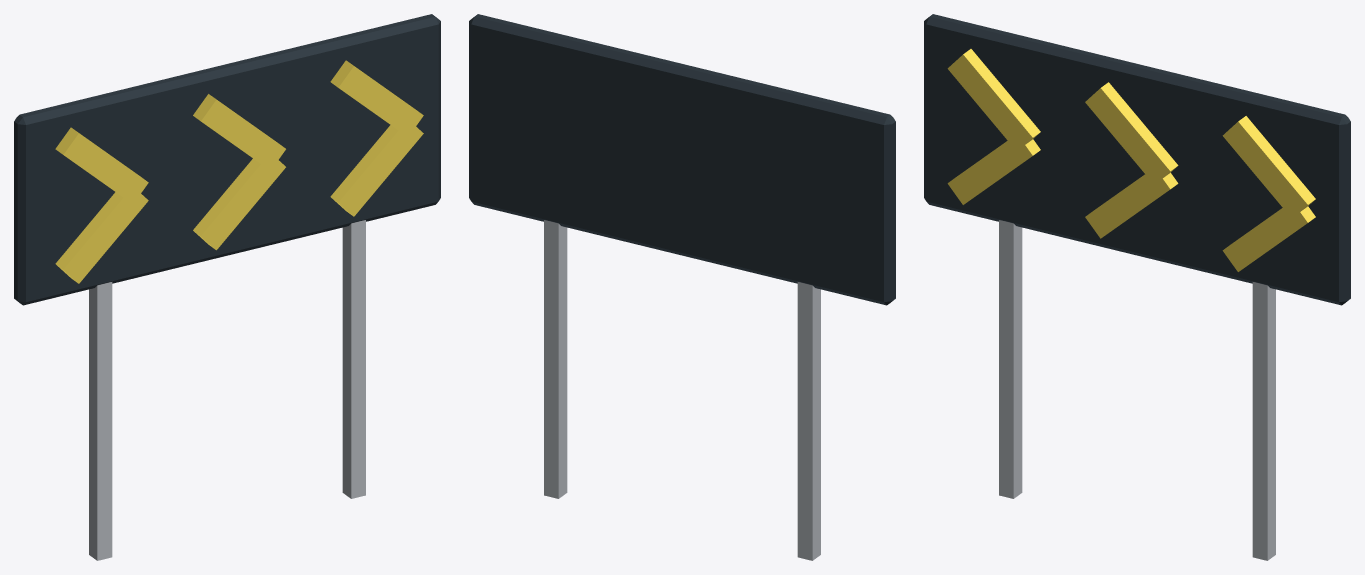
File: chevron_sign.glb
3 views of the same model, side by side, from view 1: azimuth 30°, elevation 25°; view 2: azimuth 150°, elevation 25°; view 3: azimuth 330°, elevation 25° (orthographic).
Parts seen in each view (by area): view 1: harbor_chevron_sign; view 2: harbor_chevron_sign; view 3: harbor_chevron_sign.
Part boxes in pixels (x1,y1,x2,y2): harbor_chevron_sign: (14, 14, 440, 560); harbor_chevron_sign: (469, 14, 895, 560); harbor_chevron_sign: (924, 14, 1350, 560).
Bounding box in the file's own units: 2 × 2.07 × 0.146.
